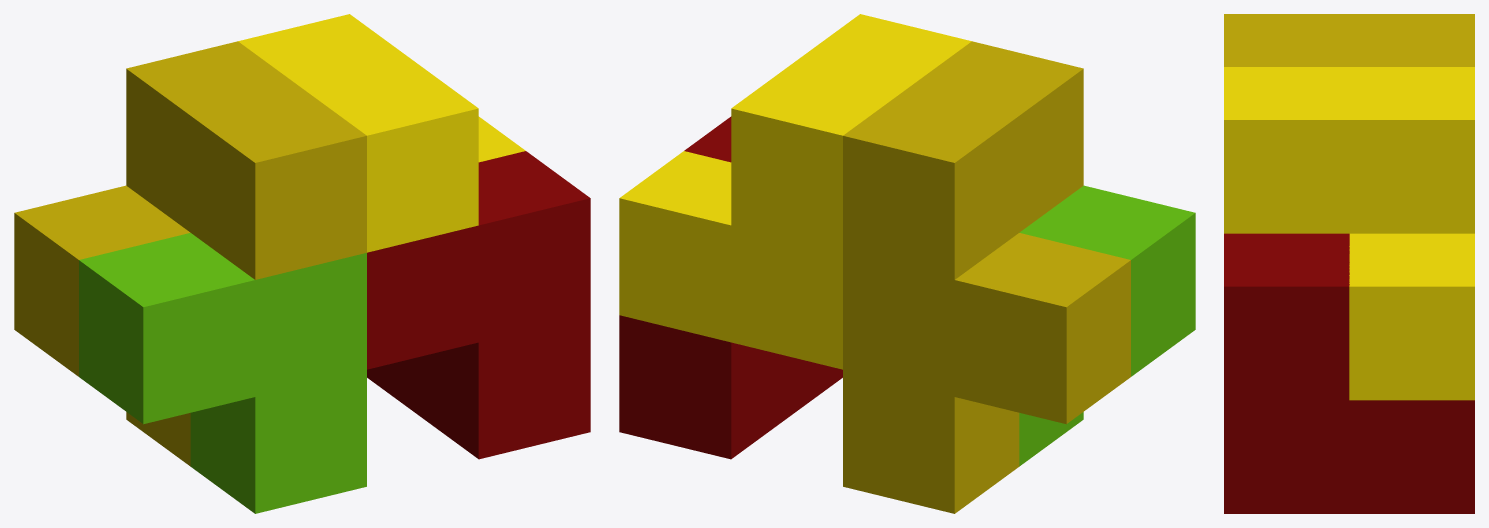
3 views of the same model, side by side, from view 1: azimuth 30°, elevation 25°; view 2: azimuth 150°, elevation 25°; view 3: azimuth 270°, elevation 25° (orthographic). The views are drawn at different scales.
Visible parts, largest first — view 1: mergedBlocks(Clone); view 2: mergedBlocks(Clone); view 3: mergedBlocks(Clone).
Boxes of the visible parts, x1=… form: mergedBlocks(Clone): x1=14, y1=14, x2=590, y2=513; mergedBlocks(Clone): x1=619, y1=14, x2=1195, y2=513; mergedBlocks(Clone): x1=1224, y1=14, x2=1474, y2=513.
Size of the model in its own units: 4 by 3 by 2.
Materials: 4 (4 with a texture image).
